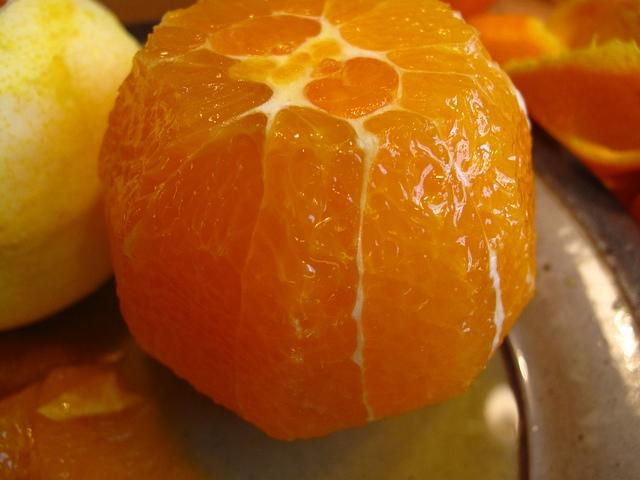mandarin: (97, 2, 536, 444), (0, 0, 143, 330), (0, 336, 213, 480), (499, 17, 640, 176), (534, 3, 638, 52)
